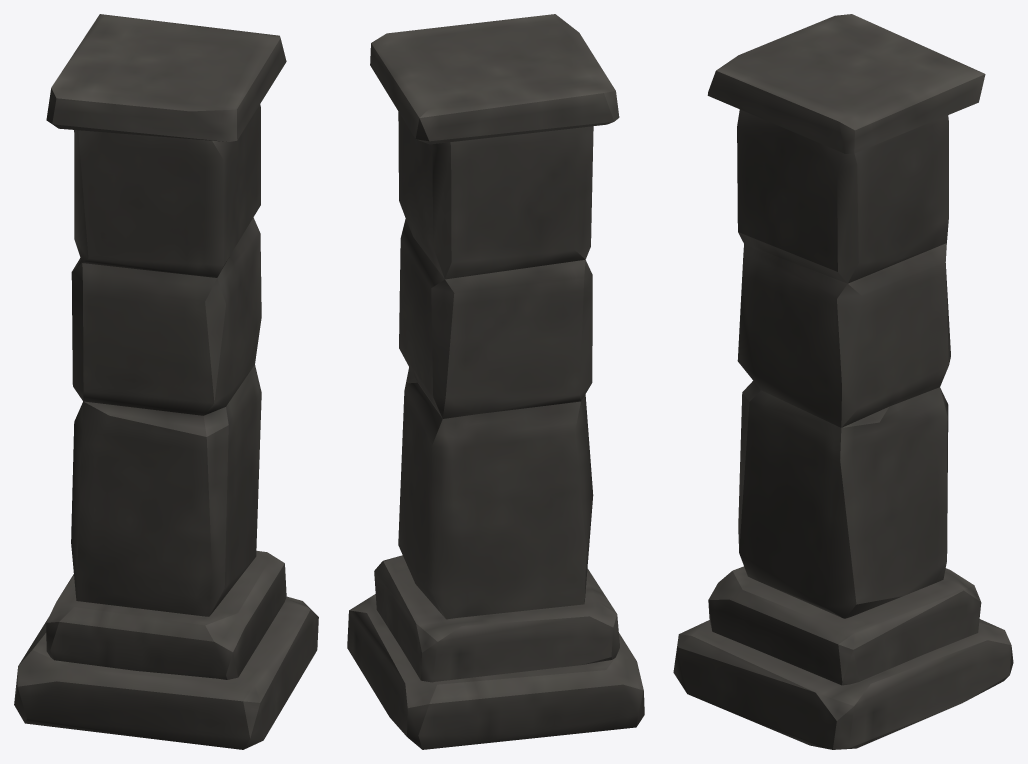
Rendered from Column3A.fbx.
3 views of the same model, side by side, from view 1: azimuth 30°, elevation 25°; view 2: azimuth 150°, elevation 25°; view 3: azimuth 270°, elevation 25° (orthographic).
Parts seen in each view (by area): view 1: Column3A; view 2: Column3A; view 3: Column3A.
Boxes of the visible parts, left/top/right/bottom form: Column3A: left=14, top=14, right=318, bottom=749; Column3A: left=347, top=14, right=644, bottom=749; Column3A: left=673, top=14, right=1013, bottom=749.
Bounding box in the file's own units: 151 × 305 × 152.
1 material, 1 textured.
